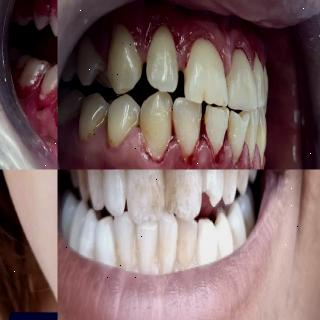Gum Swelling: (95, 5, 267, 78), (119, 126, 265, 170)
maligned: (78, 35, 114, 91)
stains: (166, 169, 206, 223), (129, 170, 165, 212), (102, 118, 128, 162), (148, 222, 169, 274), (176, 223, 198, 270), (80, 112, 106, 144), (192, 228, 210, 272), (127, 222, 142, 272), (107, 228, 123, 268), (75, 170, 91, 198), (242, 210, 255, 238), (228, 228, 239, 256), (222, 242, 224, 246)
